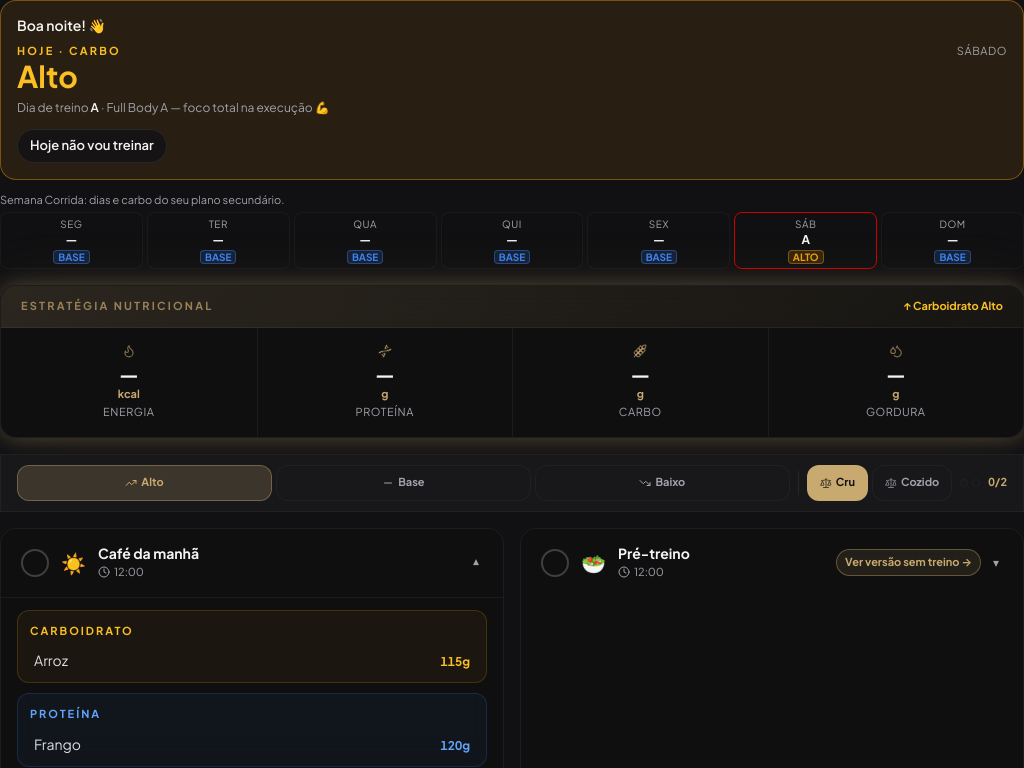
it: Dieta — 'Hoje não vou treinar' › Semana Corrida › dia de treino na semana do plano: mostra a letra do treino e os mesmos botões do dia a dia
The image size is (1024, 768).
Expected: the text "Pré-treino" is shown, [618,544,690,562]
Expected: the text "Alto" below "Hoje · Carbo" is shown, [17,57,78,95]
Click the button "Hoje não vou treinar".
click(92, 146)  # box [17,129,167,162]
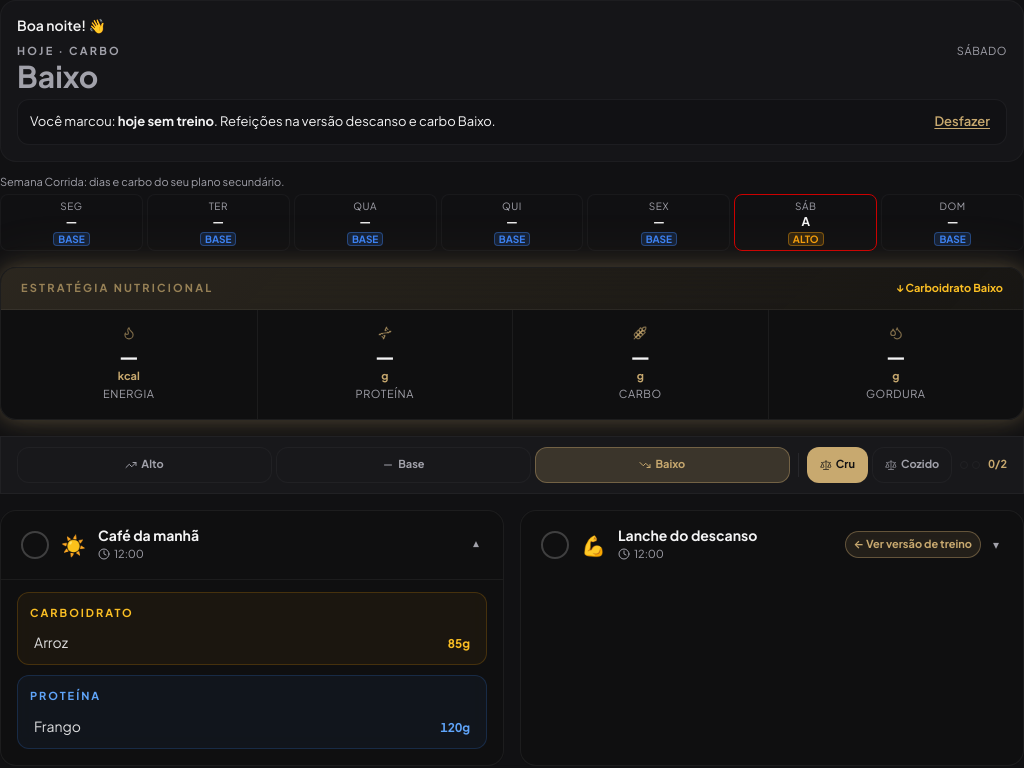
Expected: the text "Lanche do descanso" is shown, [618,526,757,544]
